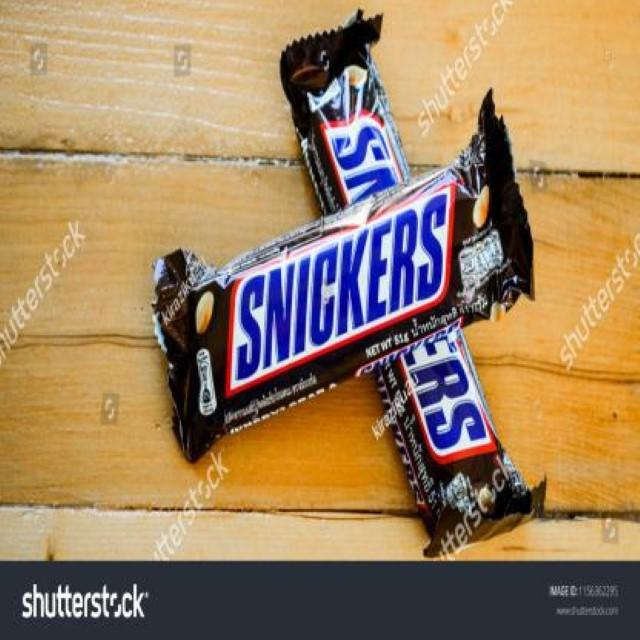snickers_chocolate: (168, 140, 537, 395), (300, 40, 490, 485)
